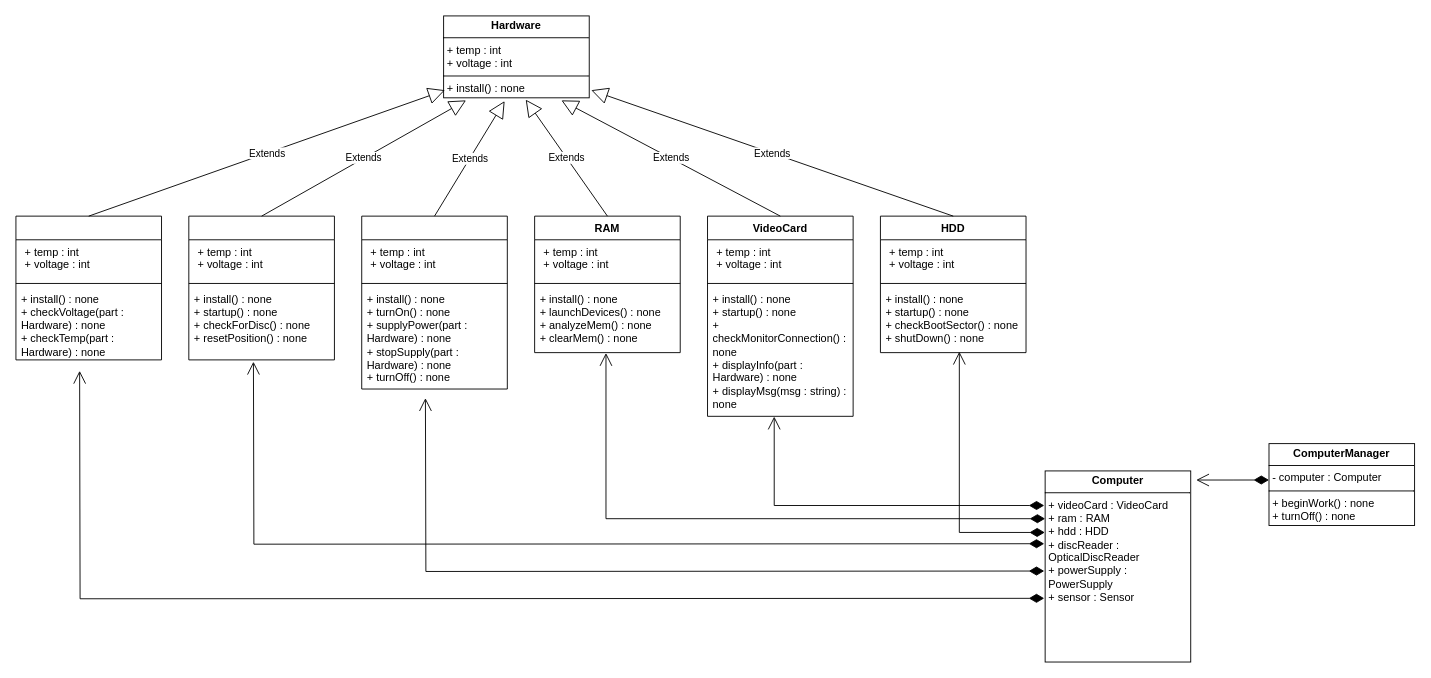
Image size: 1431x678. Some labels were removed from this diagram. The shapes that lost their labels are listed below. From the top down, each one's box as (x1, y1, x2, y2) in pixels, then its label:
(15, 215, 162, 360): Sensor
(188, 215, 334, 360): OpticalDiscReader
(361, 215, 507, 389): PowerSupply
